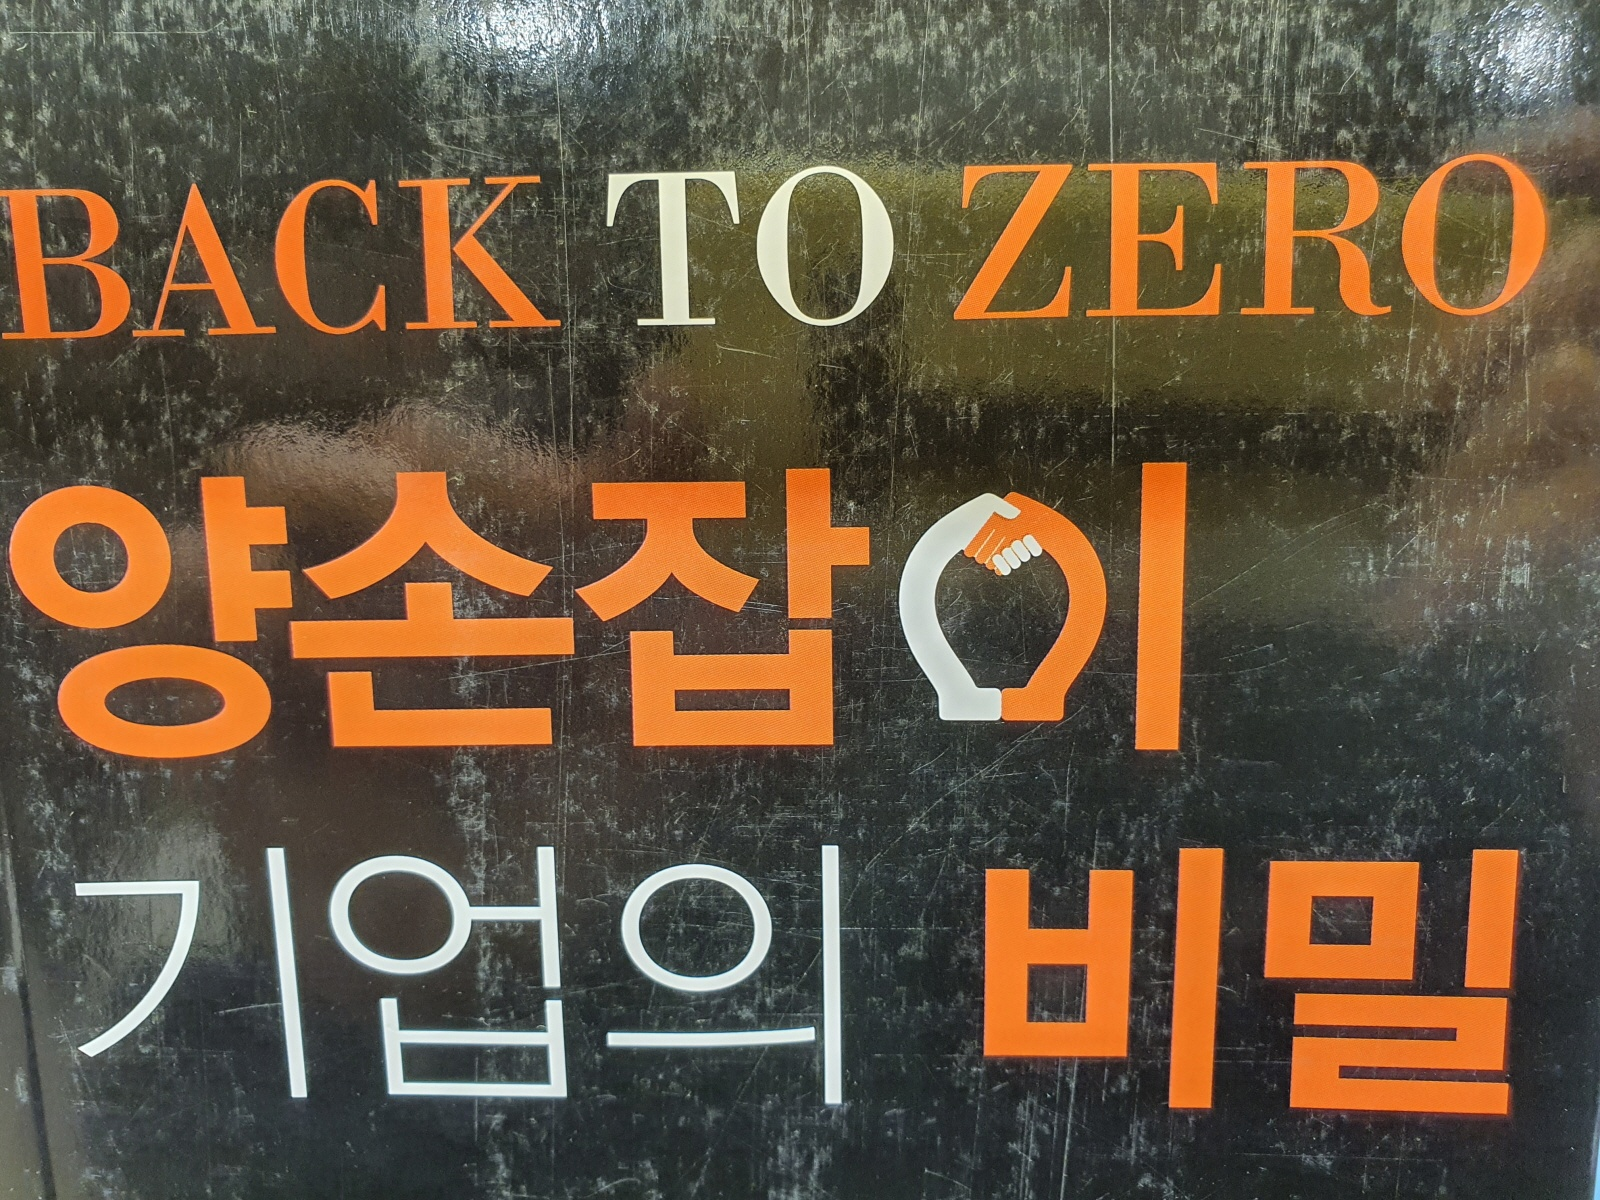text: (31, 807, 1566, 1147), (1, 435, 881, 788), (886, 444, 1293, 782)
